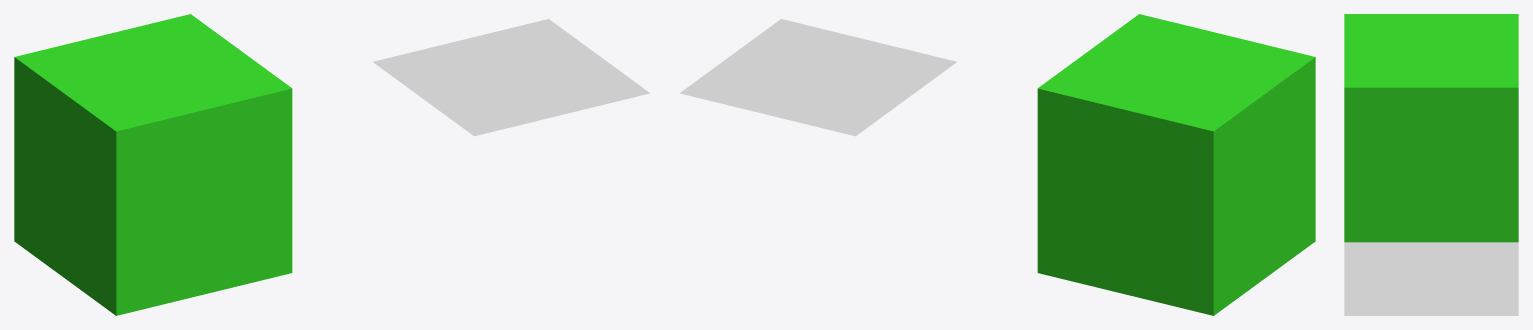
The model's file is gametest1.gltf.
3 renders of one model, left to right at view 1: azimuth 30°, elevation 25°; view 2: azimuth 150°, elevation 25°; view 3: azimuth 270°, elevation 25°, orthographic. The views are drawn at different scales.
Visible parts, largest first — view 1: 1, c1, a2, b1, b3, a1, a3, b2, c2, c3; view 2: 1, c3, a2, b1, b3, a1, a3, b2, c1, c2; view 3: 1, a1, a2, a3, b2, c1, c2, c3, b1, b3.
Part boxes in pixels (x1,y1,x2,y2): 1: [14, 14, 292, 315]; c1: [558, 68, 649, 107]; a2: [407, 72, 498, 111]; b1: [499, 83, 591, 121]; b3: [431, 33, 523, 72]; a1: [440, 97, 532, 136]; a3: [373, 47, 464, 86]; b2: [465, 58, 557, 96]; c2: [524, 43, 616, 82]; c3: [490, 19, 582, 57]; 1: [1037, 14, 1315, 315]; c3: [680, 68, 771, 107]; a2: [831, 72, 922, 111]; b1: [806, 33, 898, 72]; b3: [738, 83, 830, 121]; a1: [865, 47, 956, 86]; a3: [797, 97, 889, 136]; b2: [772, 58, 864, 96]; c1: [747, 19, 839, 57]; c2: [713, 43, 805, 82]; 1: [1344, 14, 1518, 242]; a1: [1344, 242, 1402, 266]; a2: [1402, 242, 1460, 266]; a3: [1460, 242, 1518, 266]; b2: [1402, 267, 1460, 291]; c1: [1344, 291, 1402, 315]; c2: [1402, 291, 1460, 315]; c3: [1460, 291, 1518, 315]; b1: [1344, 267, 1402, 291]; b3: [1460, 267, 1518, 291].
Bounding box in the file's own units: 6.06 × 2 × 2.
